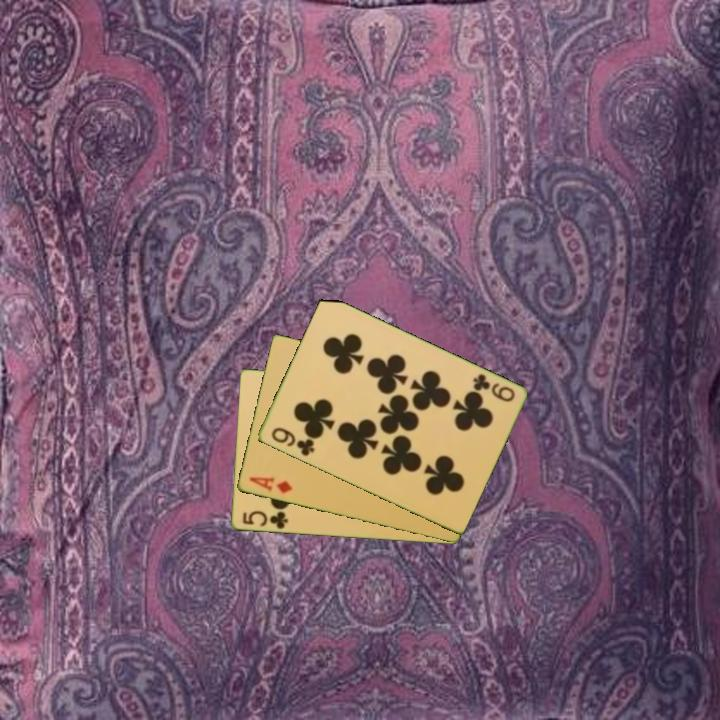5c: (239, 507, 291, 532)
9c: (267, 424, 317, 459), (469, 370, 518, 405)
Ad: (245, 474, 295, 497)
